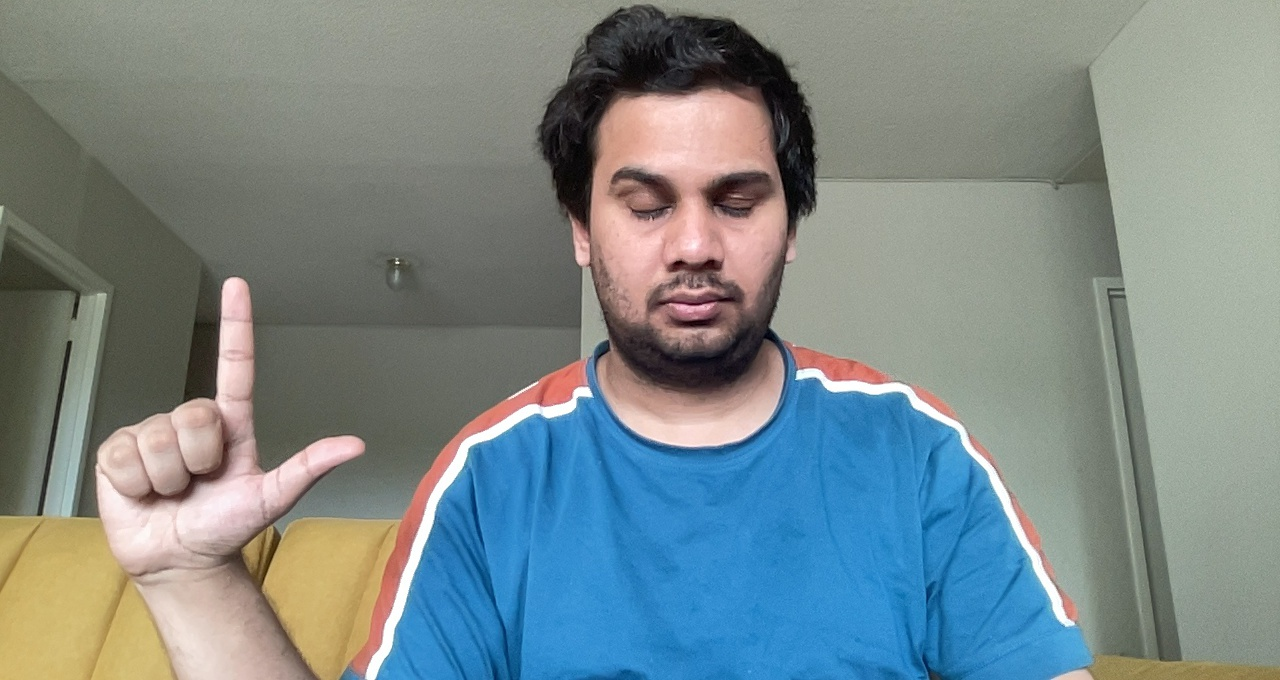L: (81, 267, 373, 597)
